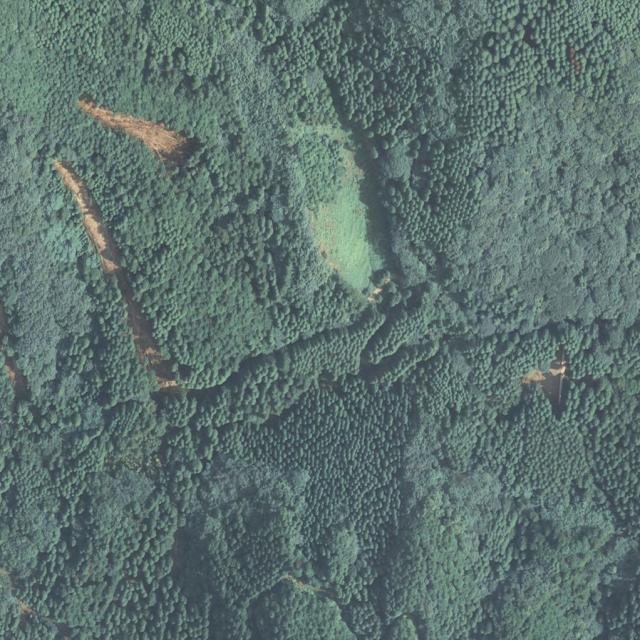landslide: (52, 159, 178, 389), (78, 94, 193, 168)
